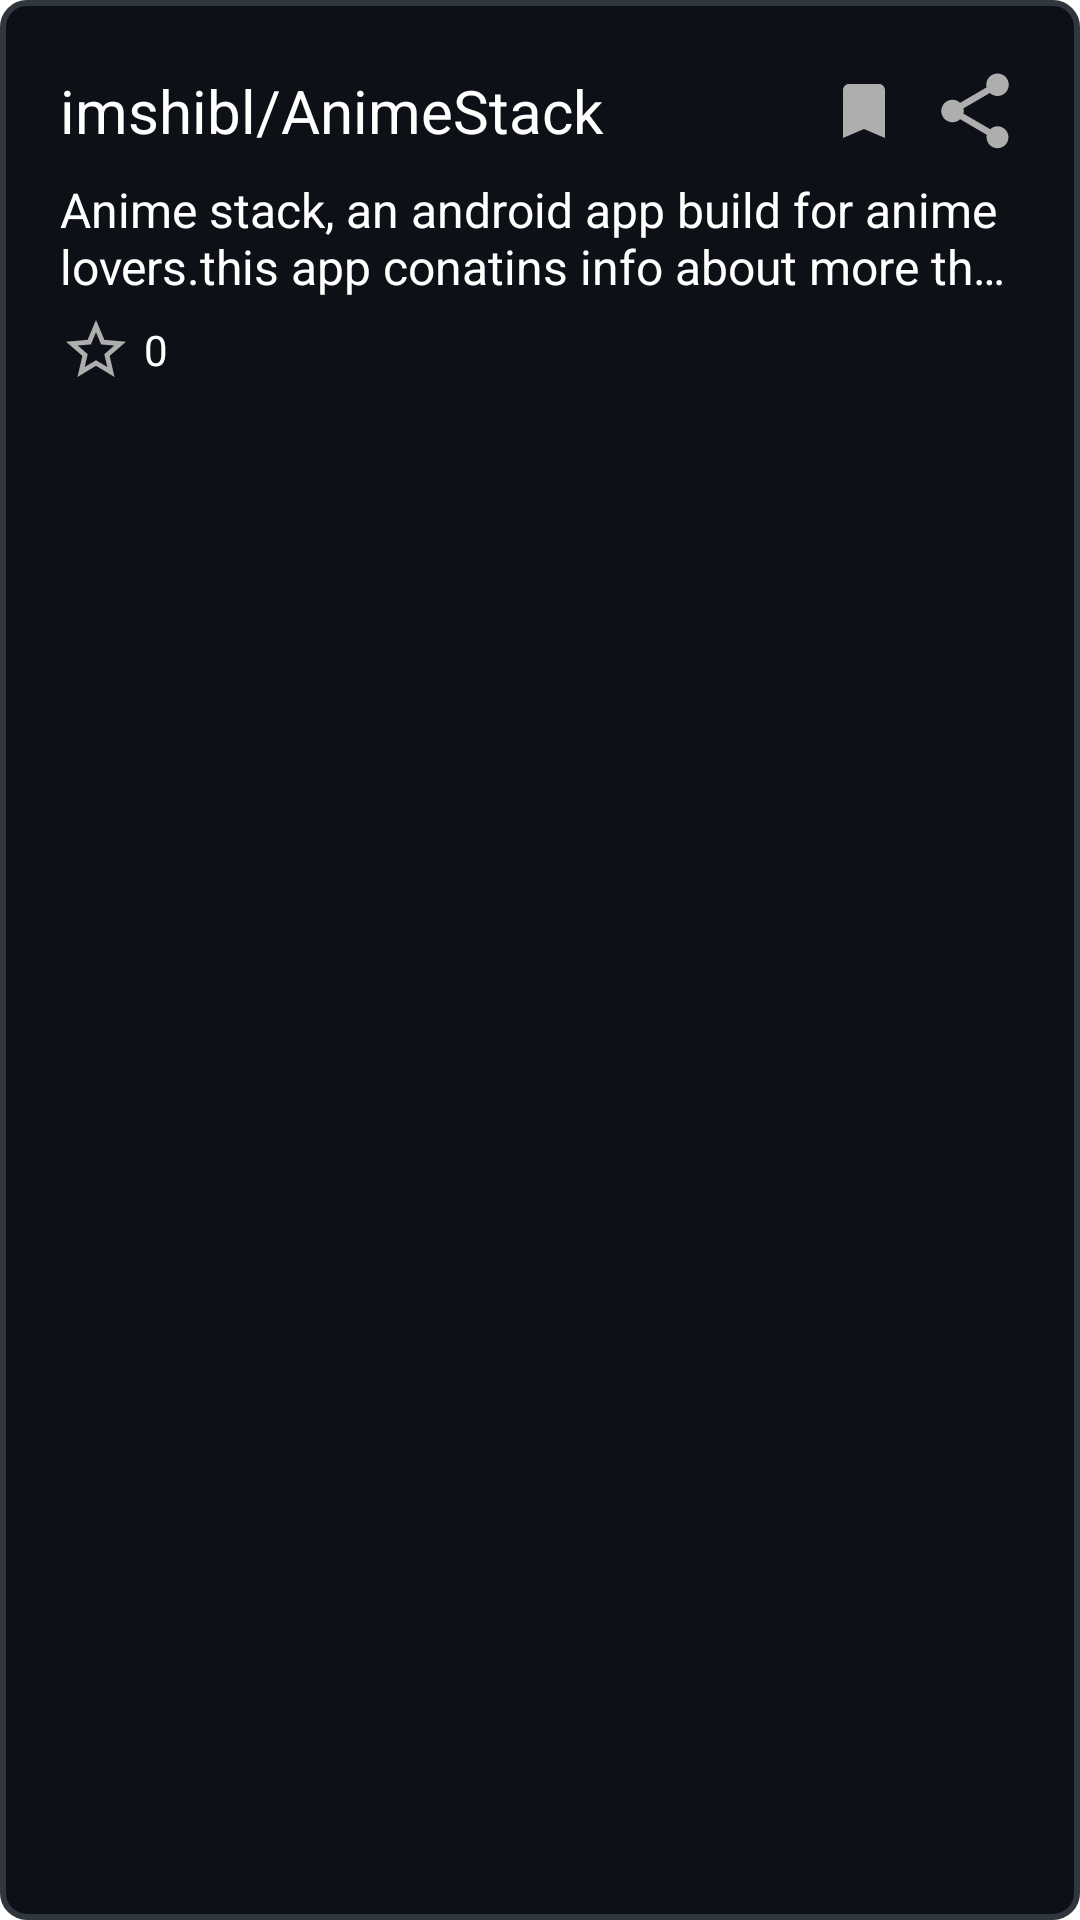

Screen size 1080 x 1920. Icon name, then its center in pixels as [x,y]:
bookmarked: [864,111]
Share Icon: [975,111]
Star Icon: [96,348]
